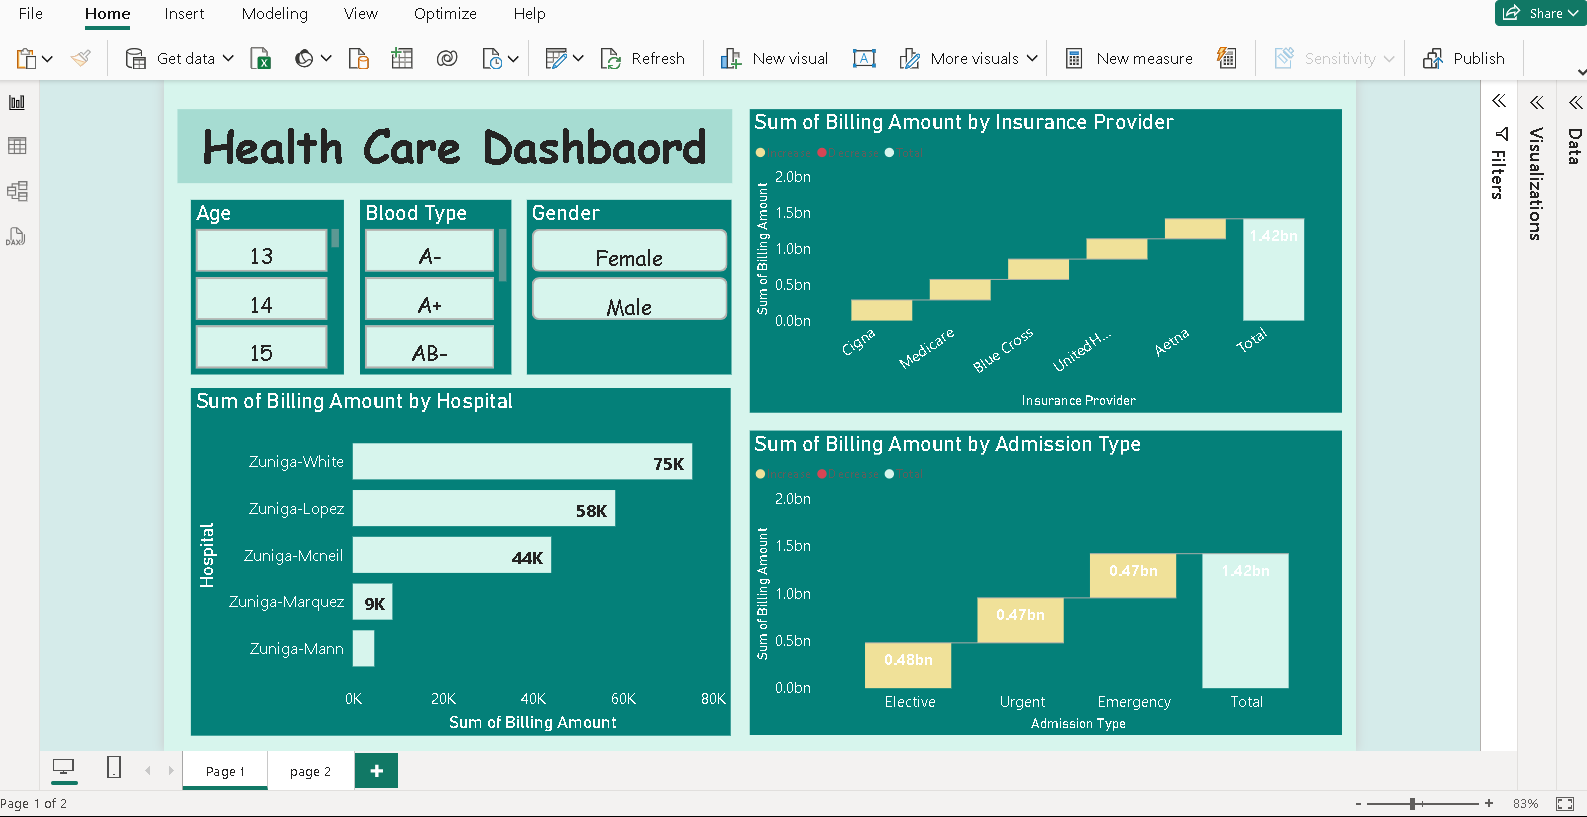

The page's visual inventory and layout, read from the dashboard file:
{"tool":"powerbi","page":{"name":"Page 1","canvas":[1280,720],"ordinal":0},"visuals":[{"type":"advancedSlicerVisual","fields":{"Values":["healthcare_dataset.Age"]},"box":[28.9,128.6,164.7,187.5],"z":0},{"type":"advancedSlicerVisual","fields":{"Values":["healthcare_dataset.Blood Type"]},"box":[210.8,128.6,162.7,187.5],"z":1000},{"type":"advancedSlicerVisual","fields":{"Values":["healthcare_dataset.Gender"]},"box":[389,128.6,220.1,187.5],"z":2000},{"type":"barChart","fields":{"Y":["Sum(healthcare_dataset.Billing Amount)"],"Category":["healthcare_dataset.Hospital"]},"box":[29.4,330.1,579.6,373.5],"z":3000},{"type":"waterfallChart","fields":{"Category":["healthcare_dataset.Insurance Provider"],"Y":["Sum(healthcare_dataset.Billing Amount)"]},"box":[629.2,31,635.4,325.5],"z":4000},{"type":"waterfallChart","fields":{"Y":["Sum(healthcare_dataset.Billing Amount)"],"Category":["healthcare_dataset.Admission Type"]},"box":[629.2,376.6,635.4,327],"z":5000},{"type":"textbox","box":[13.9,31,595.1,79],"z":6000}]}

Visuals, with their boxes on the page's 1280x720 design canvas (x1, y1, x2, y2). These are canvas units, not pixel positions in the 1587x817 screenshot, which may show the page scaled, cropped or inside an application window:
advancedSlicerVisual - healthcare_dataset.Age: (left=29, top=129, right=194, bottom=316)
advancedSlicerVisual - healthcare_dataset.Blood Type: (left=211, top=129, right=374, bottom=316)
advancedSlicerVisual - healthcare_dataset.Gender: (left=389, top=129, right=609, bottom=316)
barChart - Sum(healthcare_dataset.Billing Amount) x healthcare_dataset.Hospital: (left=29, top=330, right=609, bottom=704)
waterfallChart - healthcare_dataset.Insurance Provider x Sum(healthcare_dataset.Billing Amount): (left=629, top=31, right=1265, bottom=356)
waterfallChart - Sum(healthcare_dataset.Billing Amount) x healthcare_dataset.Admission Type: (left=629, top=377, right=1265, bottom=704)
textbox: (left=14, top=31, right=609, bottom=110)
